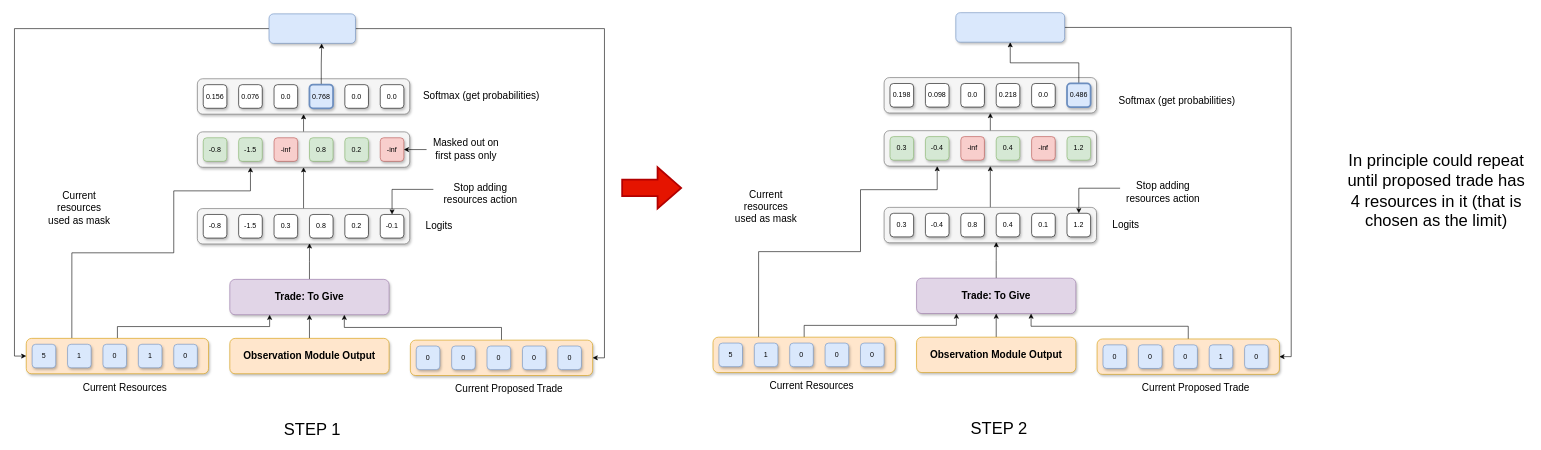
This 1541x450 diagram has some shape labels left out. Each missing label, with the centre of its shape:
First Sampled Resource: the point at 312,29
Stop - return currently proposed trade: the point at 1010,28
